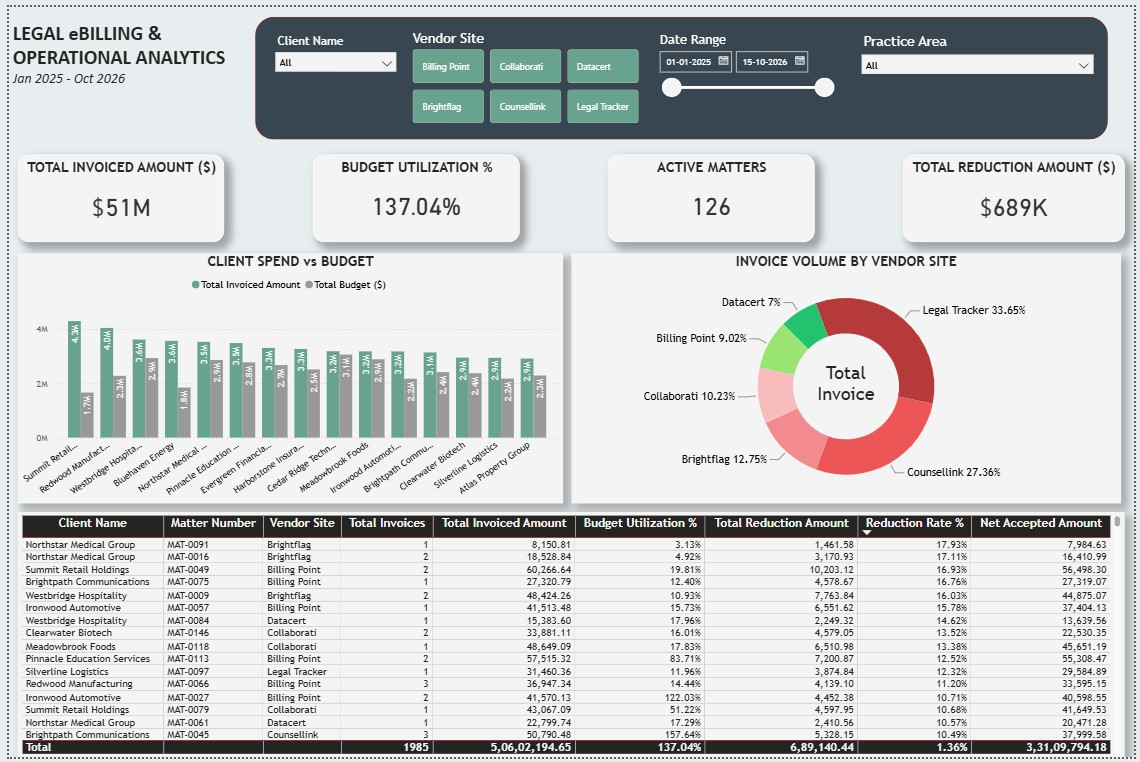

What the dashboard file says about the page in this screenshot:
{"tool":"powerbi","page":{"name":"Page 1","canvas":[1500,1000],"ordinal":0},"visuals":[{"type":"textbox","box":[0,13.7,329.3,127.6],"z":0},{"type":"shape","box":[328.9,13.3,1136.7,163.3],"z":1000},{"type":"slicer","fields":{"Values":["Matters_Budgets.Client Name"]},"box":[344.2,30.2,181.4,86],"z":2000},{"type":"advancedSlicerVisual","fields":{"Values":["Invoices_Log.Vendor Site"]},"box":[533.7,30.2,312.8,130.2],"z":3000},{"type":"slicer","fields":{"Values":["Invoices_Log.Invoice Date"]},"box":[855.6,17.8,253.3,155.6],"z":4000},{"type":"slicer","fields":{"Values":["Matters_Budgets.Practice Area"]},"box":[1126.7,30,328.9,117.8],"z":5000},{"type":"advanceCardE03760C5AB684758B56AA29F9E6C257B","title":"TOTAL INVOICED AMOUNT ($)","fields":{"mainMeasure":["Invoices_Log.Total Invoiced Amount ($)"]},"box":[11.1,196.6,275.6,116.7],"z":6000},{"type":"advanceCardE03760C5AB684758B56AA29F9E6C257B","title":"BUDGET UTILIZATION %","fields":{"mainMeasure":["Matters_Budgets.Budget Utilization %"]},"box":[404.4,196.3,275.7,117.1],"z":7000},{"type":"advanceCardE03760C5AB684758B56AA29F9E6C257B","title":"ACTIVE MATTERS","fields":{"mainMeasure":["Matters_Budgets.Active Matters"]},"box":[797.9,196.3,275.7,117.1],"z":9000},{"type":"advanceCardE03760C5AB684758B56AA29F9E6C257B","title":"TOTAL REDUCTION AMOUNT ($)","fields":{"mainMeasure":["Invoices_Log.Total Reduction Amount"]},"box":[1191.4,196.3,295.7,117.1],"z":10000},{"type":"clusteredColumnChart","title":"CLIENT SPEND vs BUDGET","fields":{"Y":["Invoices_Log.Total Invoiced Amount","Matters_Budgets.Total Budget ($)"],"Category":["Matters_Budgets.Client Name"]},"box":[11.2,327.5,727.5,333.8],"z":11000},{"type":"donutChart","title":"INVOICE VOLUME BY VENDOR SITE","fields":{"Y":["Invoices_Log.Total Invoices"],"Category":["Invoices_Log.Vendor Site"]},"box":[750,327.5,732.5,333.8],"z":12000},{"type":"textbox","box":[1061.7,468.3,108.3,78.3],"z":13000},{"type":"tableEx","fields":{"Values":["Invoices_Log.Client Name","Matters_Budgets.Matter Number","Invoices_Log.Vendor Site","Invoices_Log.Total Invoices","Invoices_Log.Total Invoiced Amount","Matters_Budgets.Budget Utilization %","Invoices_Log.Total Reduction Amount","Invoices_Log.Reduction Rate %","Invoices_Log.Net Accepted Amount"]},"box":[11.4,672.9,1475.7,327.1],"z":14000}]}

Visuals, with their boxes in screenshot pixels (x1, y1, x2, y2), scaled from the page's 1500x1000 canvas onto the 1140x762 screenshot:
textbox: select_region(0, 10, 250, 108)
shape: select_region(250, 10, 1114, 135)
slicer - Matters_Budgets.Client Name: select_region(262, 23, 399, 89)
advancedSlicerVisual - Invoices_Log.Vendor Site: select_region(406, 23, 643, 122)
slicer - Invoices_Log.Invoice Date: select_region(650, 14, 843, 132)
slicer - Matters_Budgets.Practice Area: select_region(856, 23, 1106, 113)
"TOTAL INVOICED AMOUNT ($)" advanceCardE03760C5AB684758B56AA29F9E6C257B: select_region(8, 150, 218, 239)
"BUDGET UTILIZATION %" advanceCardE03760C5AB684758B56AA29F9E6C257B: select_region(307, 150, 517, 239)
"ACTIVE MATTERS" advanceCardE03760C5AB684758B56AA29F9E6C257B: select_region(606, 150, 816, 239)
"TOTAL REDUCTION AMOUNT ($)" advanceCardE03760C5AB684758B56AA29F9E6C257B: select_region(905, 150, 1130, 239)
"CLIENT SPEND vs BUDGET" clusteredColumnChart: select_region(9, 250, 561, 504)
"INVOICE VOLUME BY VENDOR SITE" donutChart: select_region(570, 250, 1127, 504)
textbox: select_region(807, 357, 889, 417)
tableEx - Invoices_Log.Client Name x Matters_Budgets.Matter Number: select_region(9, 513, 1130, 761)
